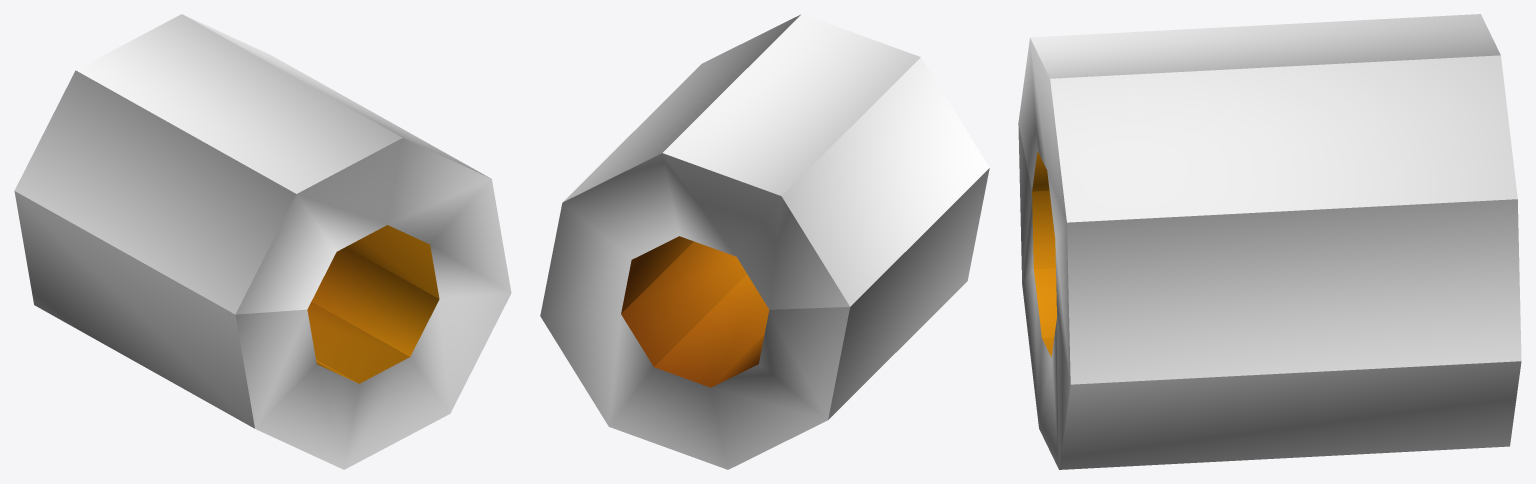
File: Sampah4.fbx
3 renders of one model, left to right at view 1: azimuth 30°, elevation 25°; view 2: azimuth 150°, elevation 25°; view 3: azimuth 270°, elevation 25°, orthographic. The views are drawn at different scales.
Parts seen in each view (by area): view 1: Tissue Optimize; view 2: Tissue Optimize; view 3: Tissue Optimize.
Boxes of the visible parts, left/top/right/bottom form: Tissue Optimize: left=14, top=14, right=511, bottom=469; Tissue Optimize: left=540, top=14, right=989, bottom=469; Tissue Optimize: left=1018, top=14, right=1521, bottom=469.
Bounding box in the file's own units: 17.02 × 15.17 × 17.83.
